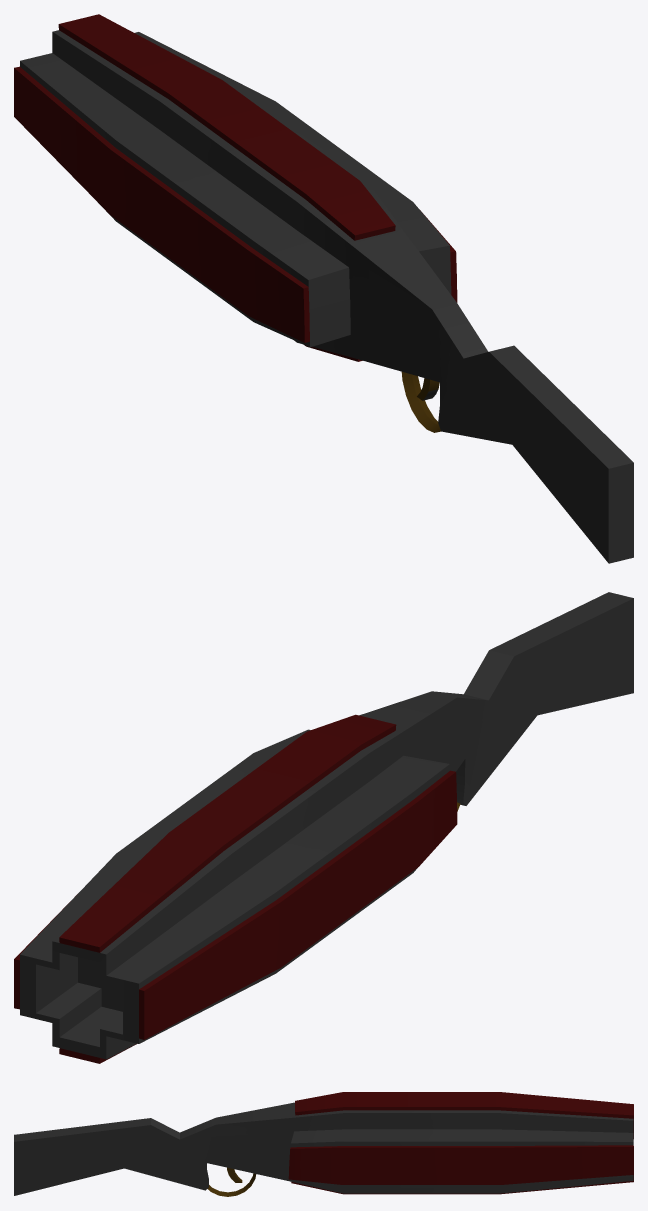
The model's file is Shotgun.fbx.
3 views of the same model, one above another, from view 1: azimuth 30°, elevation 25°; view 2: azimuth 150°, elevation 25°; view 3: azimuth 270°, elevation 25° (orthographic). The views are drawn at different scales.
Parts seen in each view (by area): view 1: pCube4; view 2: pCube4; view 3: pCube4.
Boxes of the visible parts, x1=… form: pCube4: x1=14, y1=14, x2=633, y2=563; pCube4: x1=14, y1=592, x2=633, y2=1063; pCube4: x1=14, y1=1092, x2=633, y2=1196.
Size of the model in its own units: 1.74 by 1.62 by 9.58.
